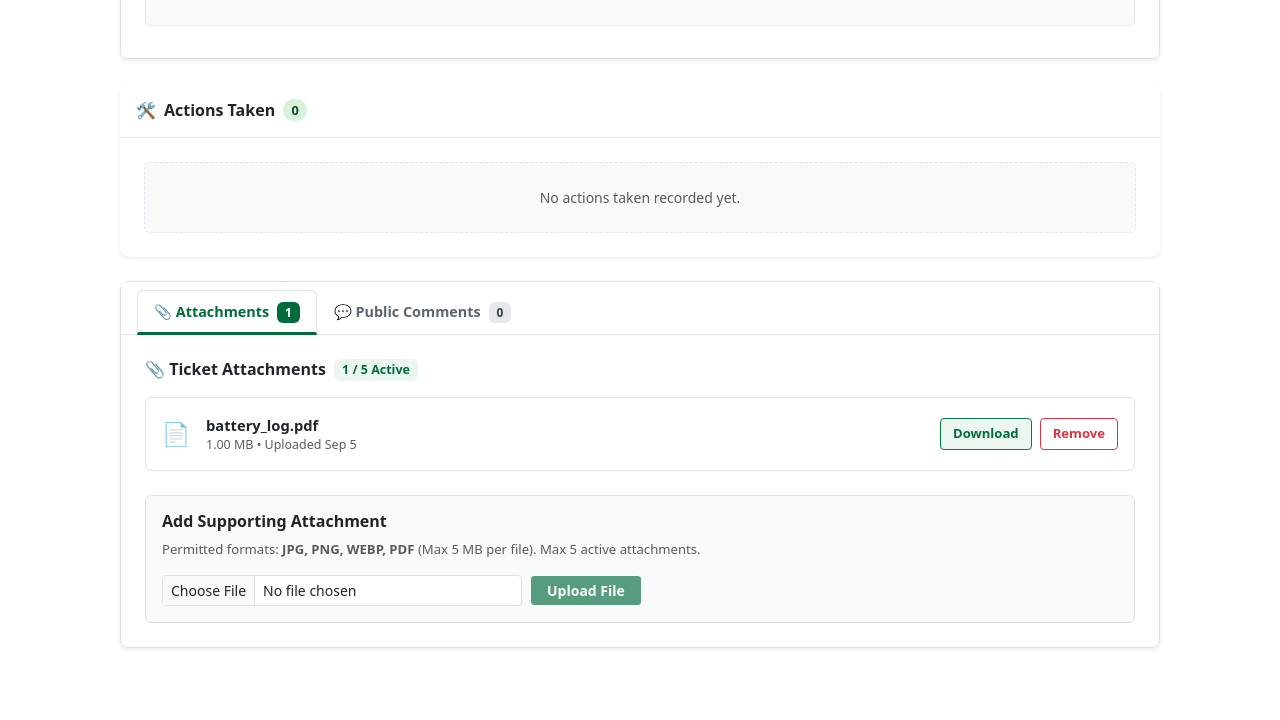
UI Component — TicketDetail.tsx › performs soft-removal when valid reason is entered in modal
(page scrolled)
Check: the text "battery_log.pdf" is shown, box [206, 415, 318, 435]
Note: Open removal modal
Step 1. Click the button "Remove" → (1079, 434), box [1040, 418, 1118, 450]
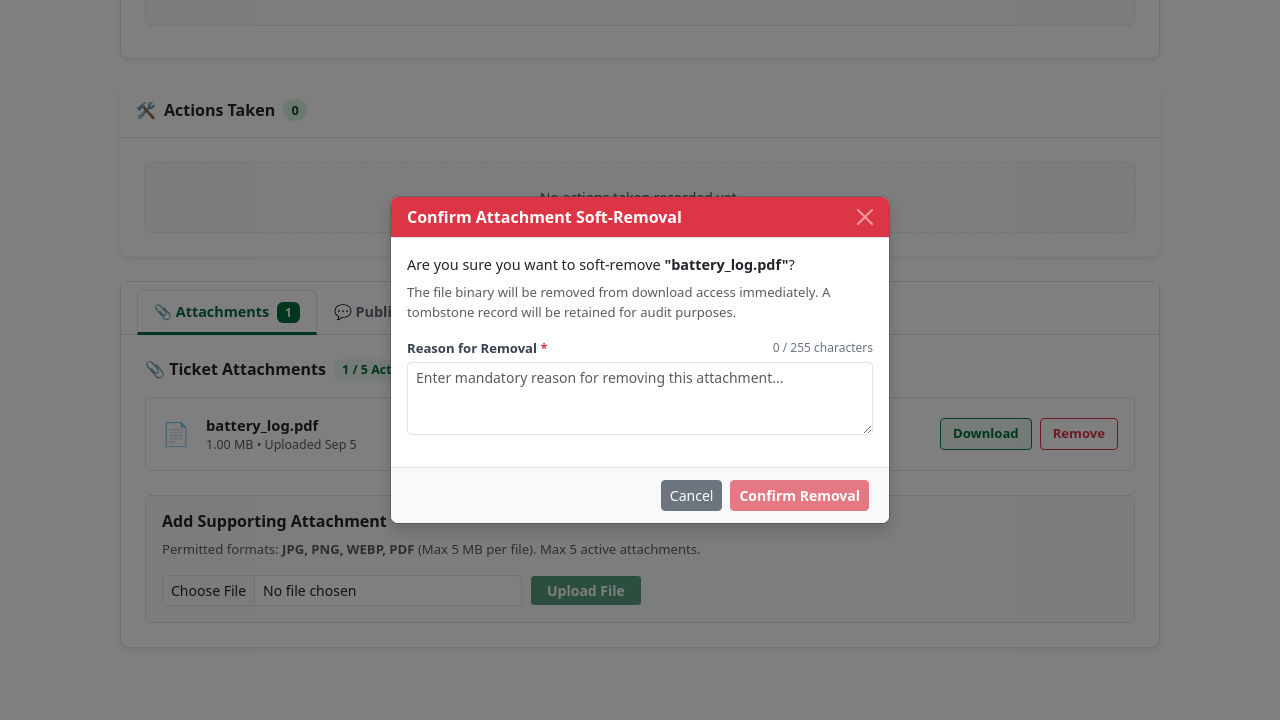
Note: Type reason into textarea
Step 2. Type "Uploaded wrong document version by mistake" into the text box with placeholder "Enter mandatory reason for removing this attachment..." → (640, 399), box [407, 362, 873, 435]
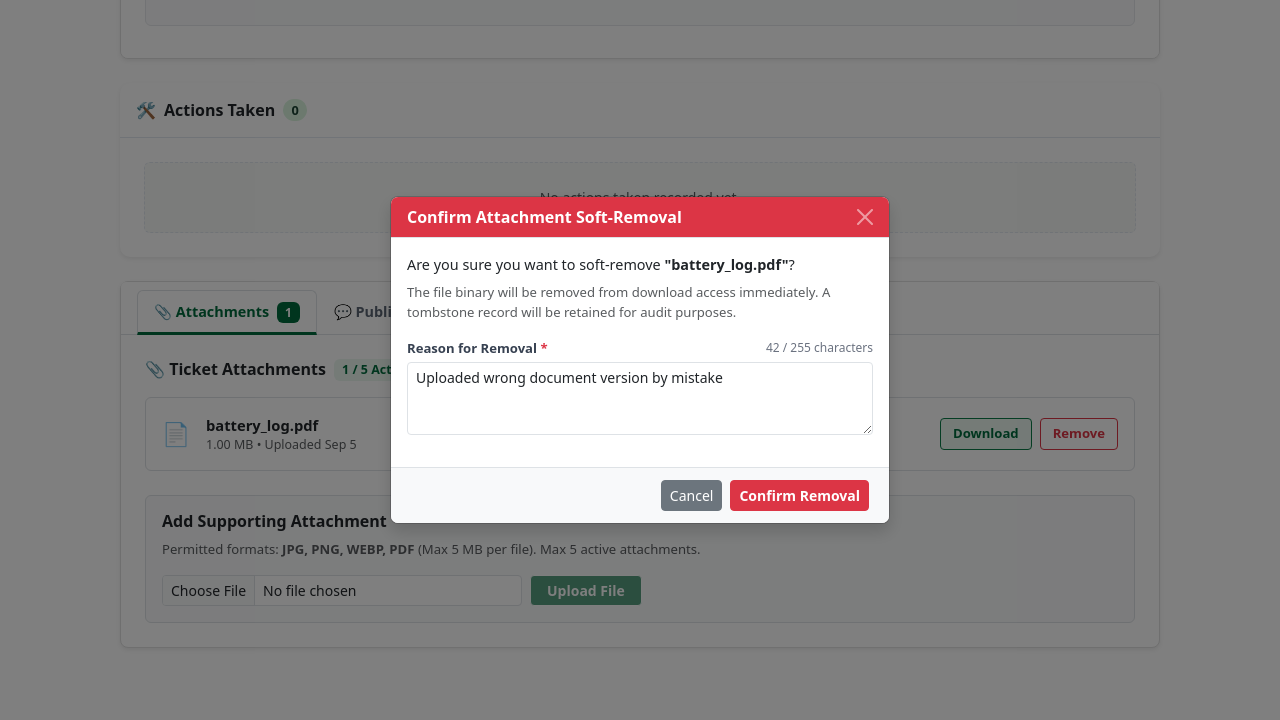
Note: Click confirm removal
Step 3. Click the button "Confirm Removal" → (800, 496), box [730, 480, 869, 511]
(page scrolled)
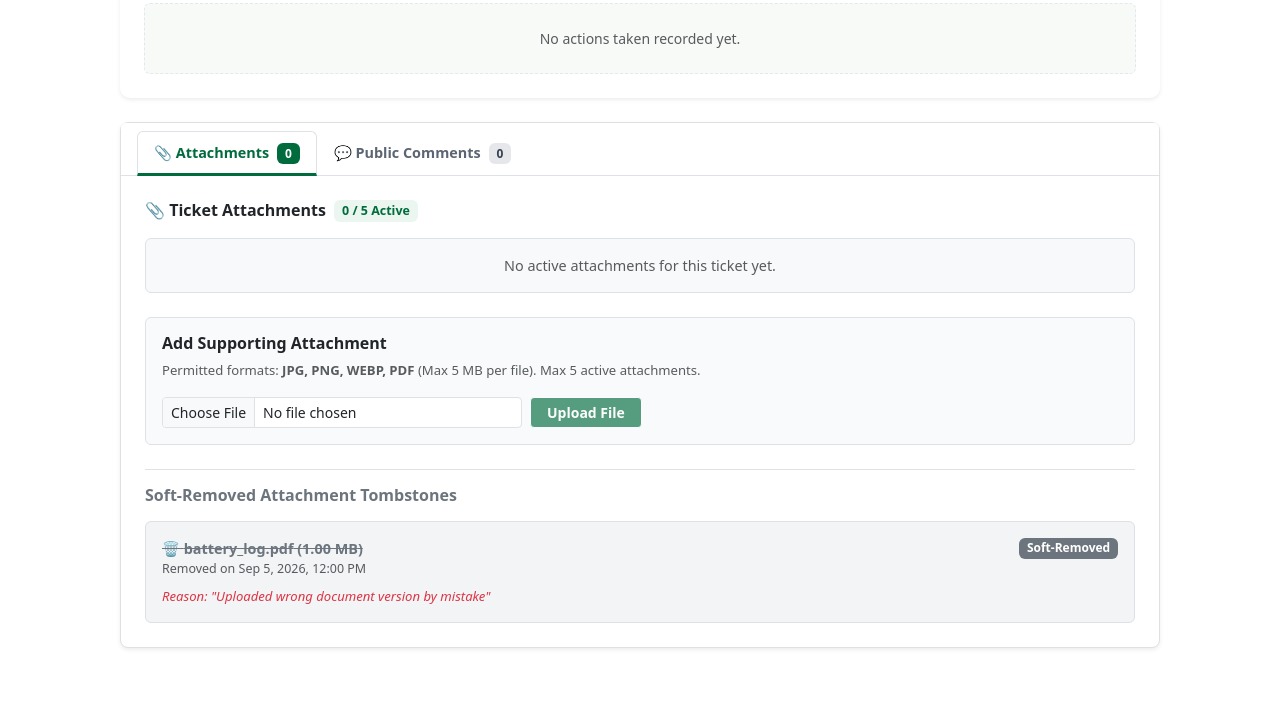
Check: the heading "Soft-Removed Attachment Tombstones" is shown, box [145, 484, 457, 506]
Check: the text "Reason: \"Uploaded wrong document version by mistake\"" is shown, box [162, 587, 490, 605]
